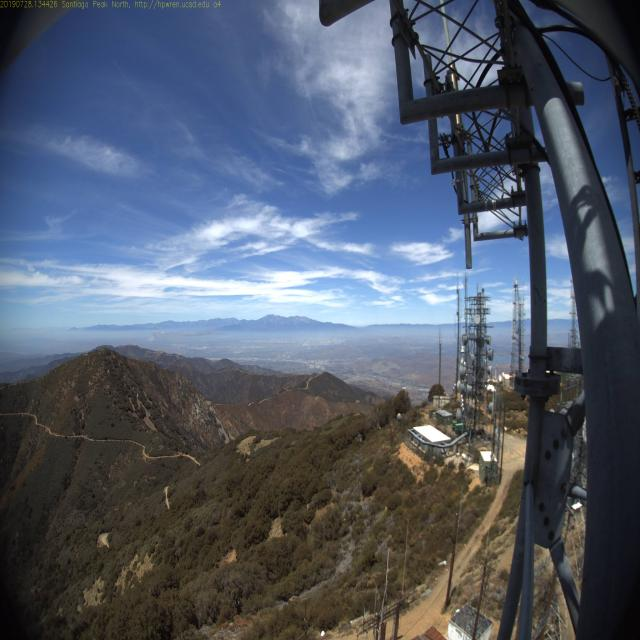smoke: (142, 322, 169, 350)
